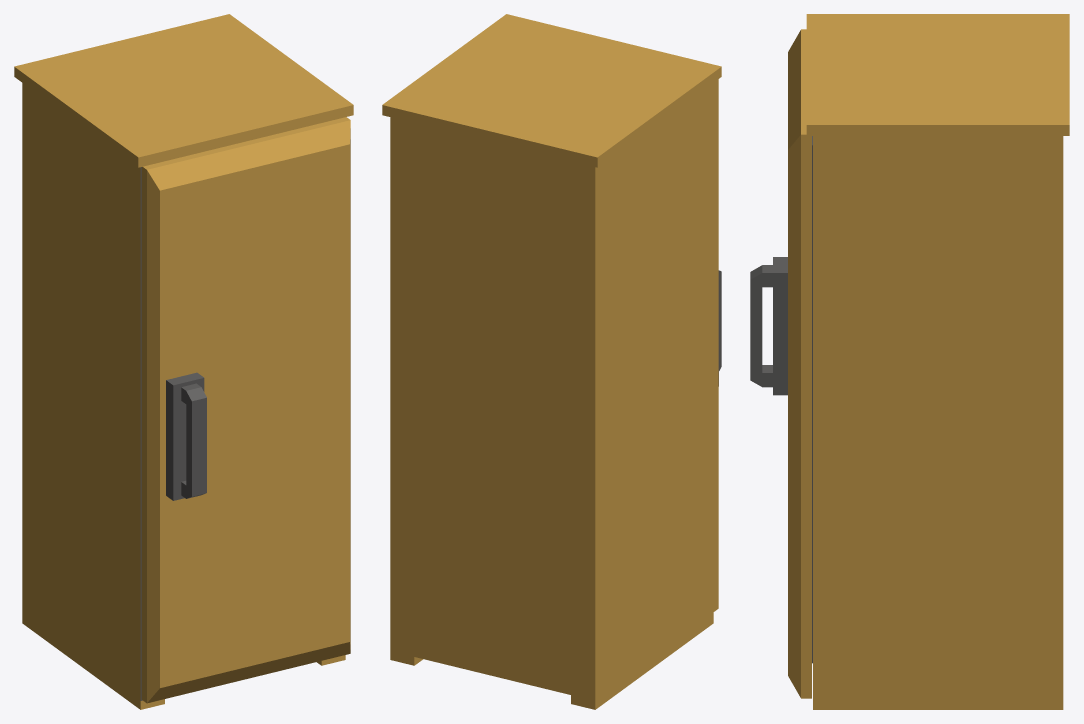
File: freezerhight_01_D.gltf
3 views of the same model, side by side, from view 1: azimuth 30°, elevation 25°; view 2: azimuth 150°, elevation 25°; view 3: azimuth 270°, elevation 25° (orthographic). The views are drawn at different scales.
Visible parts, largest first — view 1: Doorfreezer_01_D, freezerhight_01_D; view 2: freezerhight_01_D, Doorfreezer_01_D; view 3: freezerhight_01_D, Doorfreezer_01_D.
Boxes of the visible parts, x1=… form: Doorfreezer_01_D: x1=141, y1=117, x2=350, y2=703; freezerhight_01_D: x1=14, y1=14, x2=353, y2=709; freezerhight_01_D: x1=382, y1=14, x2=721, y2=709; Doorfreezer_01_D: x1=713, y1=79, x2=721, y2=611; freezerhight_01_D: x1=806, y1=14, x2=1069, y2=709; Doorfreezer_01_D: x1=750, y1=29, x2=812, y2=698.
Bounding box in the file's own units: 0.6297 × 1.55 × 0.7646.
Materials: 1 (1 with a texture image).
